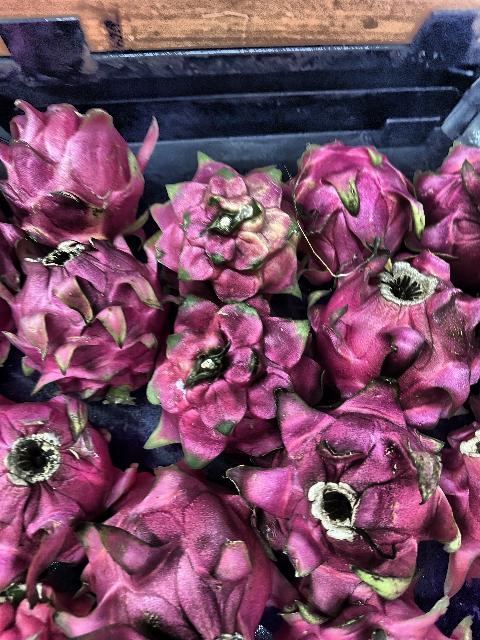buah-naga-belum-matang: (146, 148, 306, 300)
buah-naga-matang: (250, 381, 459, 599), (78, 459, 280, 636), (306, 252, 480, 420), (148, 292, 328, 453), (0, 234, 164, 404), (0, 93, 152, 240), (0, 394, 120, 576), (280, 132, 418, 258), (412, 130, 480, 282), (450, 414, 480, 600)
